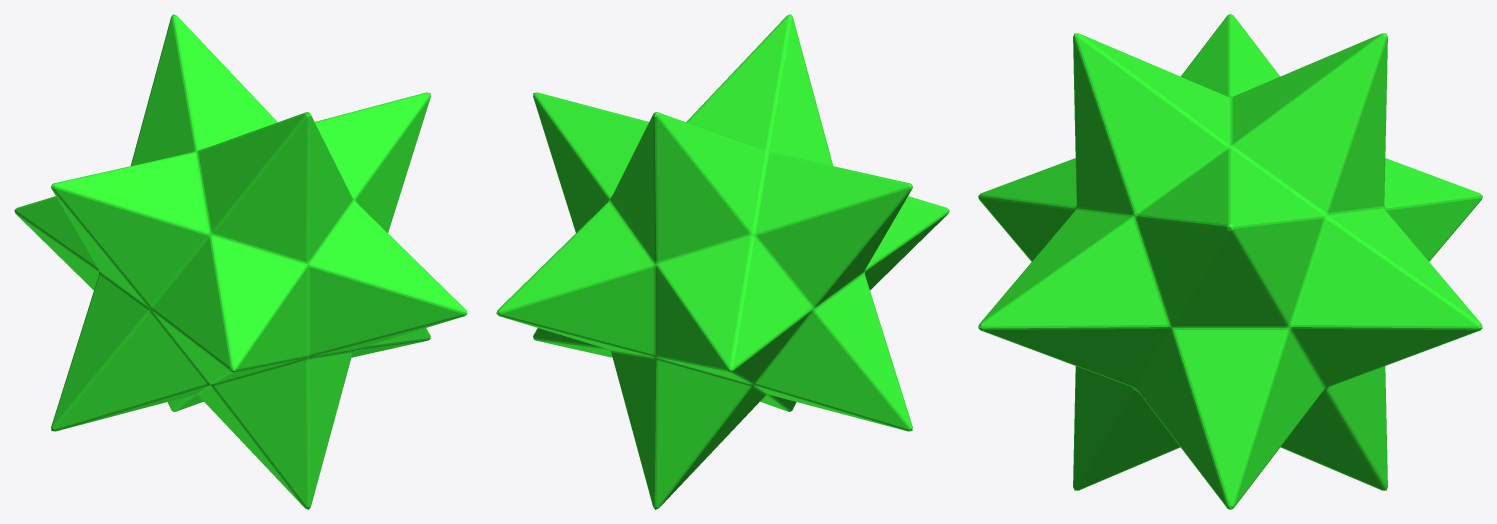
File: Stellateddodecahedron.obj
The picture shows the model from 3 angles, left to right: view 1: azimuth 30°, elevation 25°; view 2: azimuth 150°, elevation 25°; view 3: azimuth 270°, elevation 25°; orthographic projection. The views are drawn at different scales.
Parts seen in each view (by area): view 1: Stellateddodecahedron; view 2: Stellateddodecahedron; view 3: Stellateddodecahedron.
Boxes of the visible parts, x1,y1,x2,y2 form: Stellateddodecahedron: [14, 14, 467, 509]; Stellateddodecahedron: [496, 14, 949, 509]; Stellateddodecahedron: [978, 14, 1482, 509].
Bounding box in the file's own units: 1 × 1 × 1.
